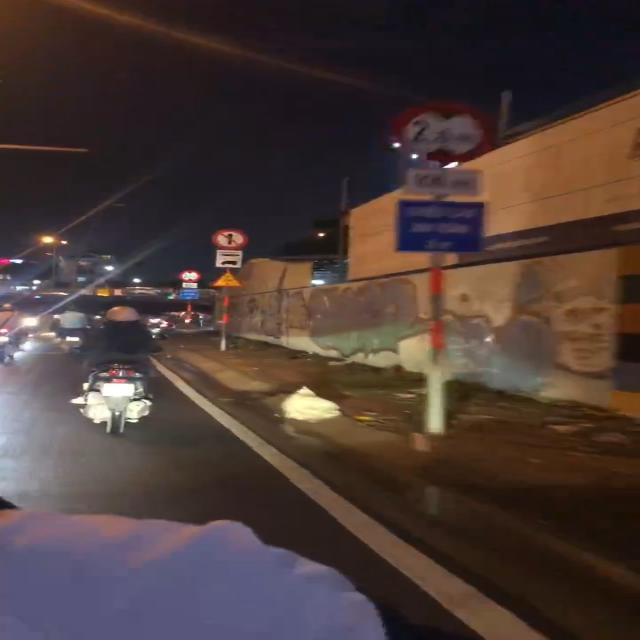Bien bao cam di thang: (212, 227, 250, 249)
